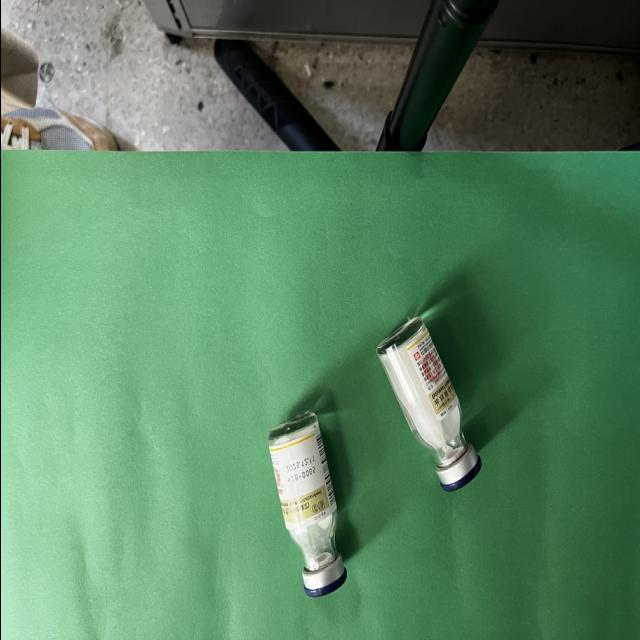Vials: (376, 316, 480, 491), (267, 411, 346, 596)
